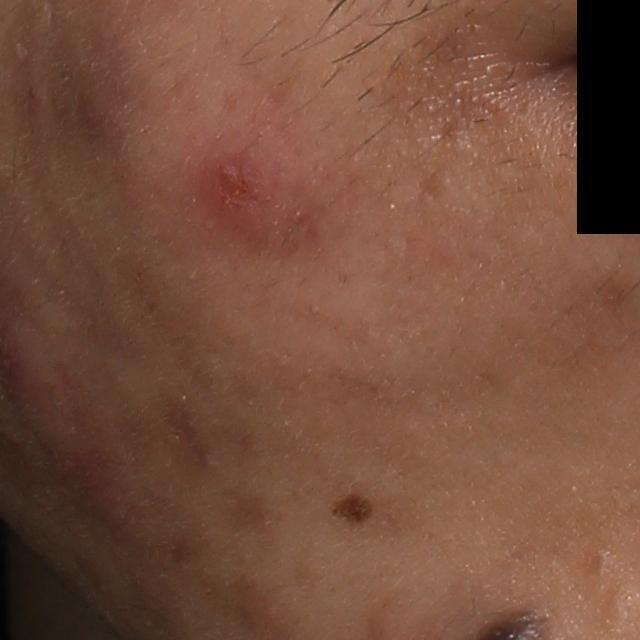nevus: (321, 489, 381, 533)
